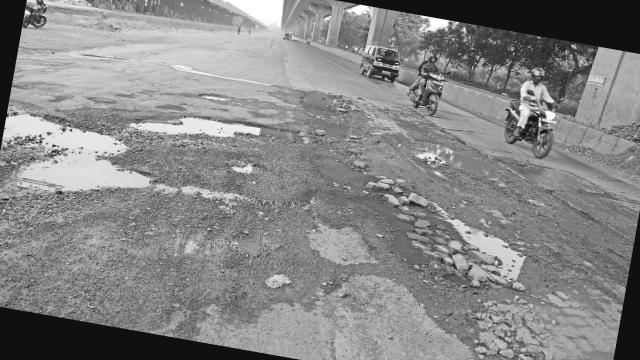Pothole: (277, 138, 474, 286), (0, 94, 187, 244), (122, 95, 312, 168), (402, 195, 536, 272), (384, 124, 520, 187), (290, 105, 361, 150), (217, 222, 278, 267), (292, 84, 344, 114), (196, 85, 234, 106)
